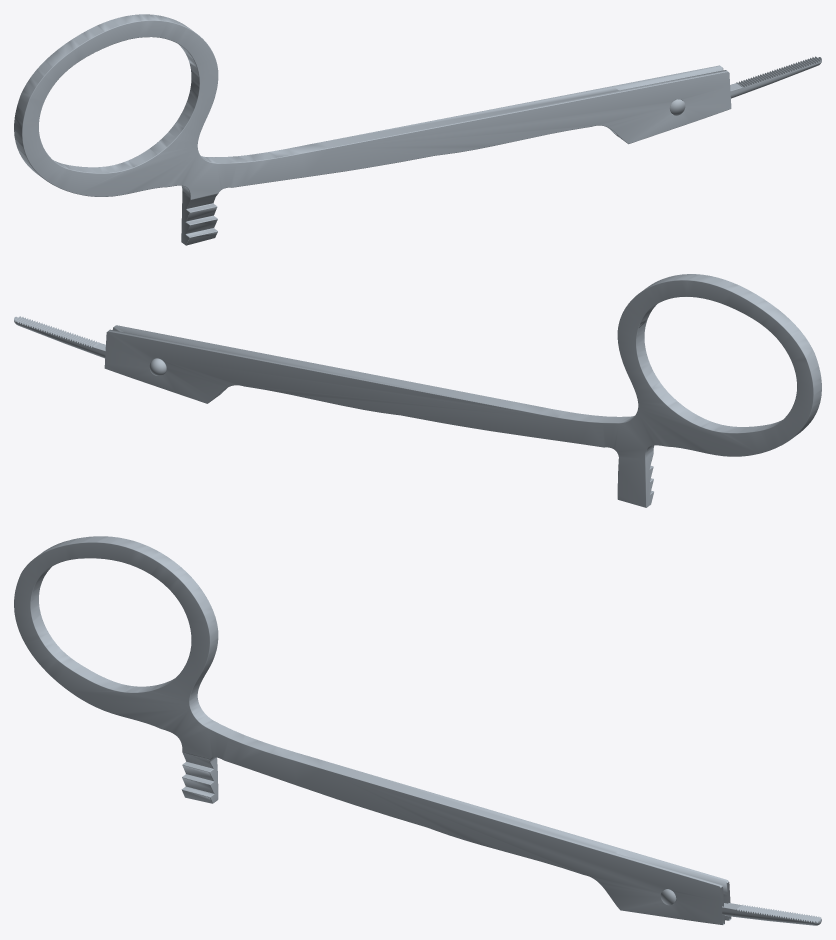
Rendered from fixed.obj.
3 views of the same model, one above another, from view 1: azimuth 30°, elevation 25°; view 2: azimuth 150°, elevation 25°; view 3: azimuth 330°, elevation 25° (orthographic).
Size of the model in its own units: 0.1206 by 0.0349 by 0.00361.
